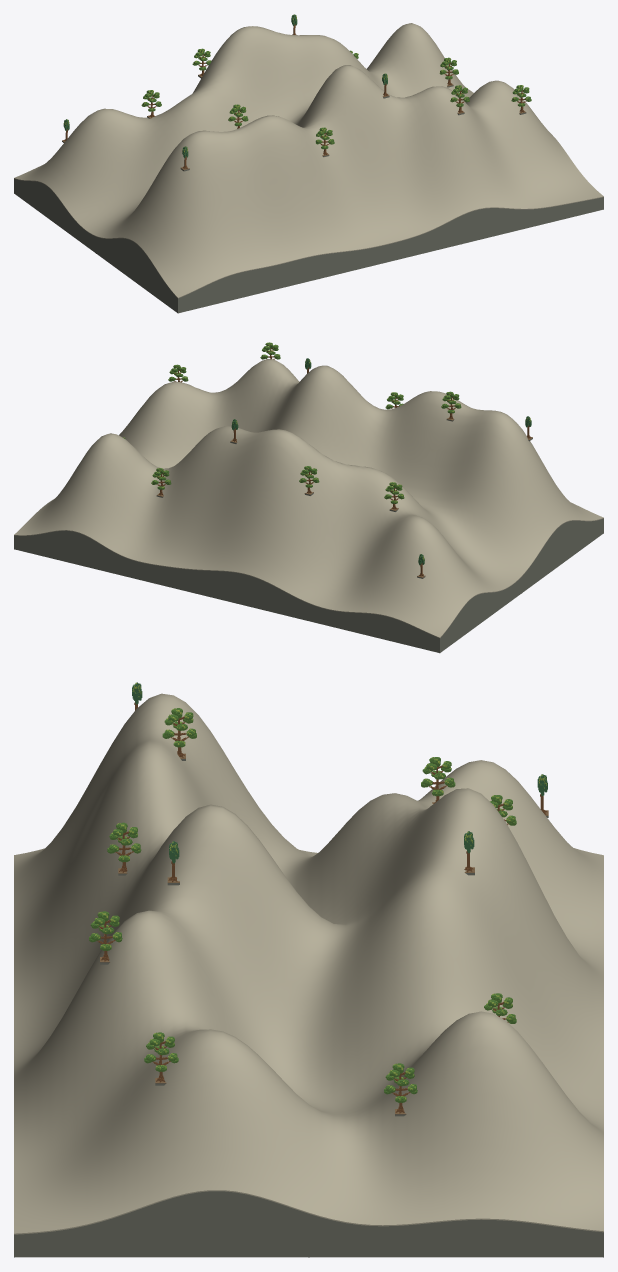
File: visual-far.glb
3 views of the same model, one above another, from view 1: azimuth 30°, elevation 25°; view 2: azimuth 150°, elevation 25°; view 3: azimuth 270°, elevation 25° (orthographic). The views are drawn at different scales.
Visible parts, largest first — view 1: 连续岩土实体与最小原生岩块 (×6); view 2: 连续岩土实体与最小原生岩块 (×6); view 3: 连续岩土实体与最小原生岩块 (×6), 既有量化乔木树干与错层冠母版 (×6).
Part boxes in pixels (bbox=[...]): 连续岩土实体与最小原生岩块 (×6): bbox=[14, 23, 603, 313]; 连续岩土实体与最小原生岩块 (×6): bbox=[14, 359, 603, 653]; 连续岩土实体与最小原生岩块 (×6): bbox=[14, 693, 603, 1257]; 既有量化乔木树干与错层冠母版 (×6): bbox=[89, 708, 455, 1113].
Size of the model in its own units: 288 by 98.42 by 192.
7 materials, 7 textured.
